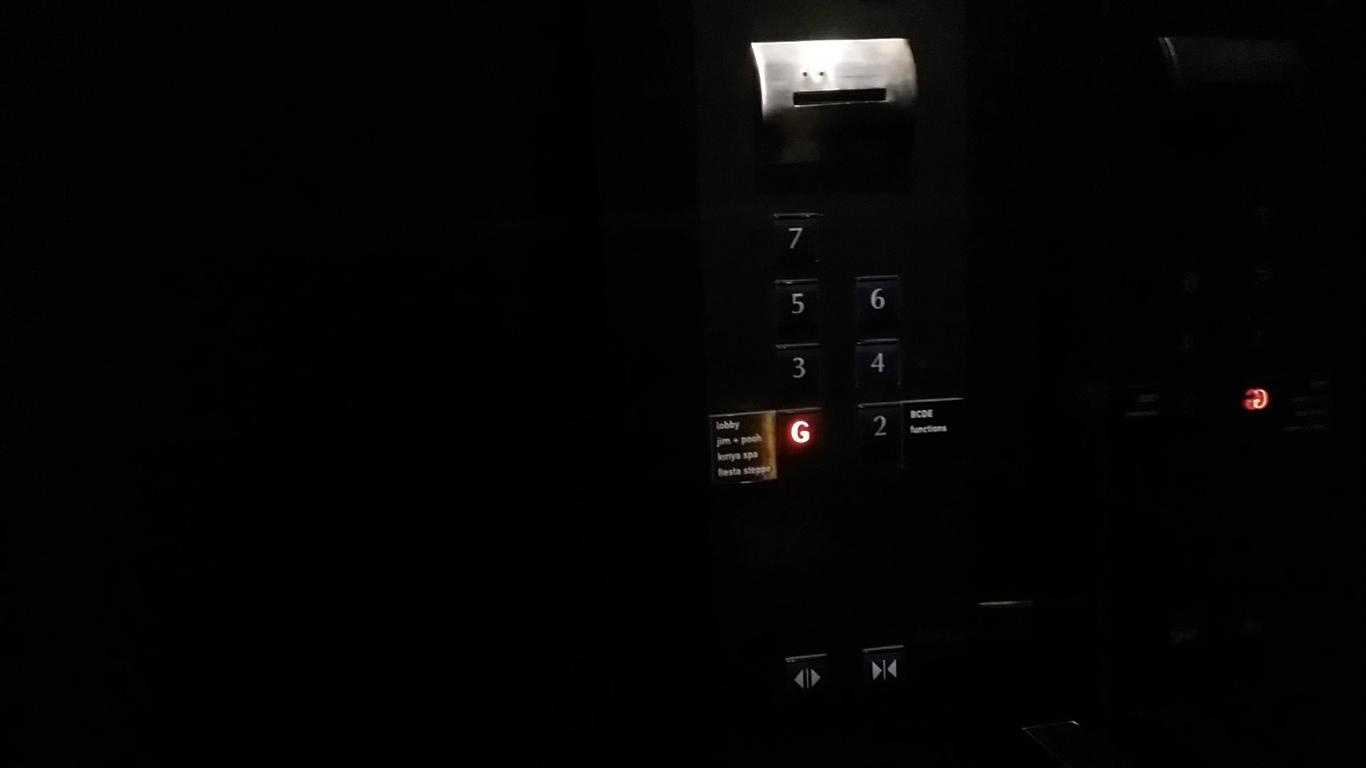2: (852, 400, 907, 454)
3: (771, 340, 828, 395)
4: (850, 336, 904, 395)
5: (769, 277, 827, 333)
6: (849, 272, 906, 328)
7: (769, 209, 827, 270)
G: (772, 404, 828, 461)
close: (857, 643, 907, 697)
open: (782, 650, 832, 701)
